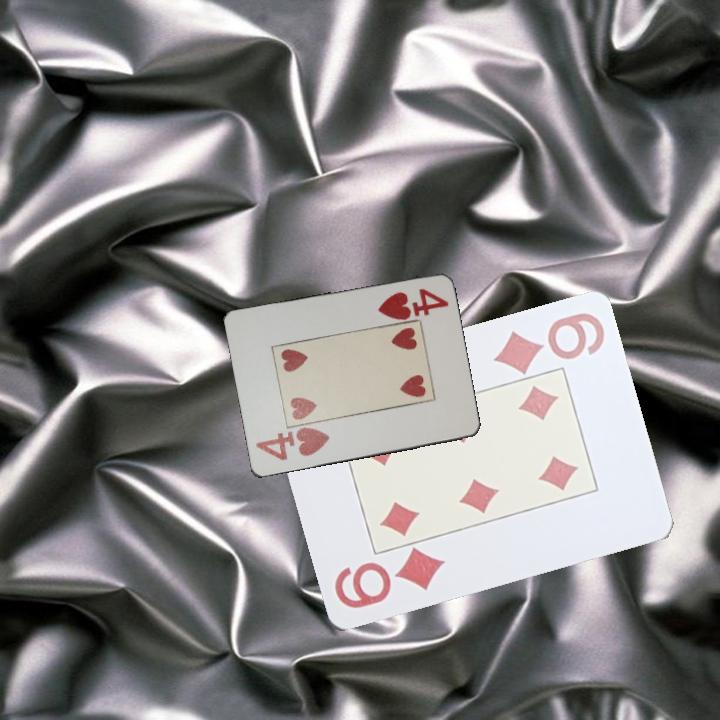4h: (252, 424, 332, 464), (374, 285, 452, 323)
6d: (489, 309, 608, 377), (330, 545, 448, 612)
